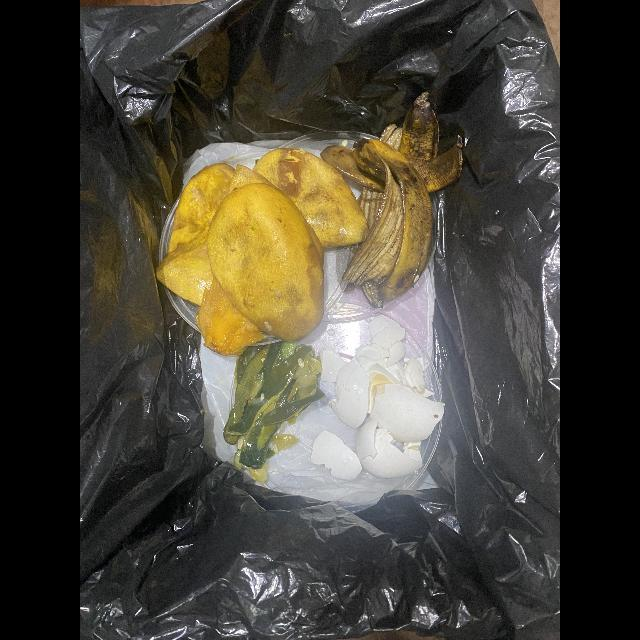biowaste: (320, 92, 463, 310), (207, 164, 324, 343), (321, 316, 445, 443), (253, 148, 369, 248), (156, 163, 235, 307), (356, 420, 423, 478), (310, 430, 362, 480)
